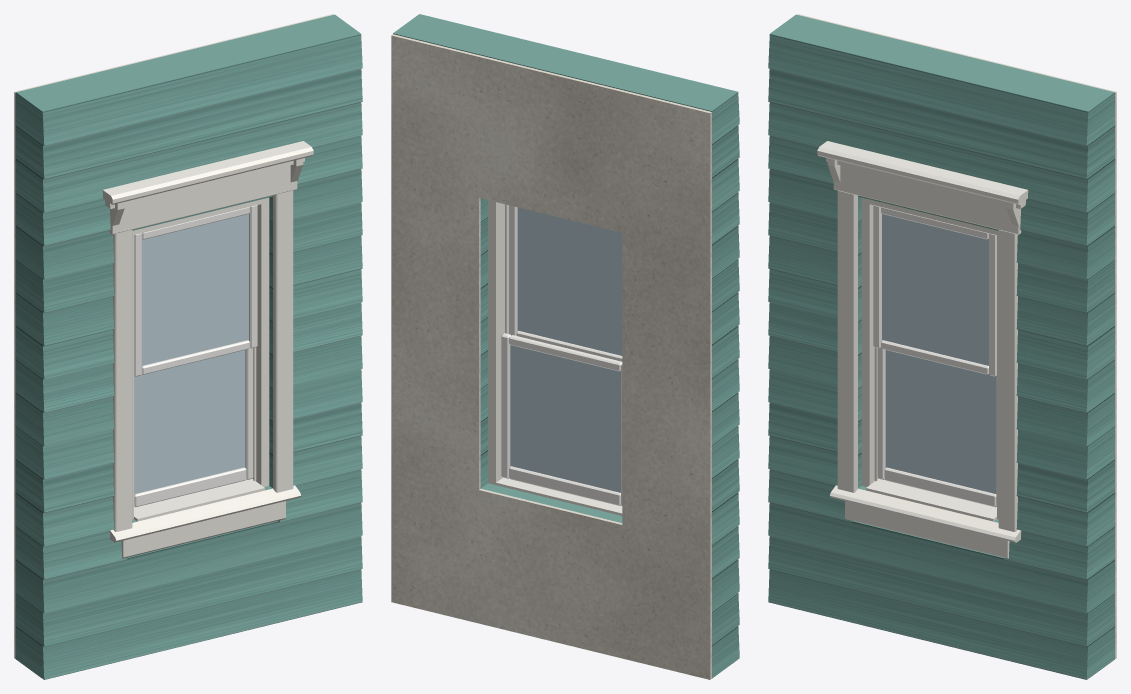
Rendered from b_u_win_c.glb.
3 views of the same model, side by side, from view 1: azimuth 30°, elevation 25°; view 2: azimuth 150°, elevation 25°; view 3: azimuth 330°, elevation 25° (orthographic).
Parts seen in each view (by area): view 1: b_u_win_c_siding_c, b_u_win_c_trim, b_u_win_c_glass, b_u_win_c_sash, b_u_win_c_frame, b_u_win_c_plaster; view 2: b_u_win_c_plaster, b_u_win_c_siding_c, b_u_win_c_glass, b_u_win_c_sash, b_u_win_c_frame, b_u_win_c_trim; view 3: b_u_win_c_siding_c, b_u_win_c_trim, b_u_win_c_glass, b_u_win_c_sash, b_u_win_c_frame, b_u_win_c_plaster.
Boxes of the visible parts, left/top/right/bottom form: b_u_win_c_siding_c: left=16, top=14, right=362, bottom=679; b_u_win_c_trim: left=102, top=141, right=313, bottom=558; b_u_win_c_glass: left=134, top=214, right=248, bottom=493; b_u_win_c_sash: left=134, top=205, right=257, bottom=507; b_u_win_c_frame: left=132, top=197, right=269, bottom=519; b_u_win_c_plaster: left=14, top=14, right=333, bottom=658; b_u_win_c_plaster: left=391, top=34, right=711, bottom=679; b_u_win_c_siding_c: left=393, top=14, right=739, bottom=678; b_u_win_c_glass: left=510, top=207, right=622, bottom=492; b_u_win_c_sash: left=501, top=205, right=622, bottom=505; b_u_win_c_frame: left=488, top=200, right=508, bottom=484; b_u_win_c_trim: left=496, top=477, right=622, bottom=515; b_u_win_c_siding_c: left=768, top=14, right=1114, bottom=679; b_u_win_c_trim: left=817, top=141, right=1028, bottom=558; b_u_win_c_glass: left=882, top=214, right=996, bottom=493; b_u_win_c_sash: left=873, top=205, right=996, bottom=507; b_u_win_c_frame: left=861, top=197, right=998, bottom=519; b_u_win_c_plaster: left=797, top=14, right=1116, bottom=658.
Bounding box in the file's own units: 2 × 3.4 × 0.43.
6 materials, 2 textured.
